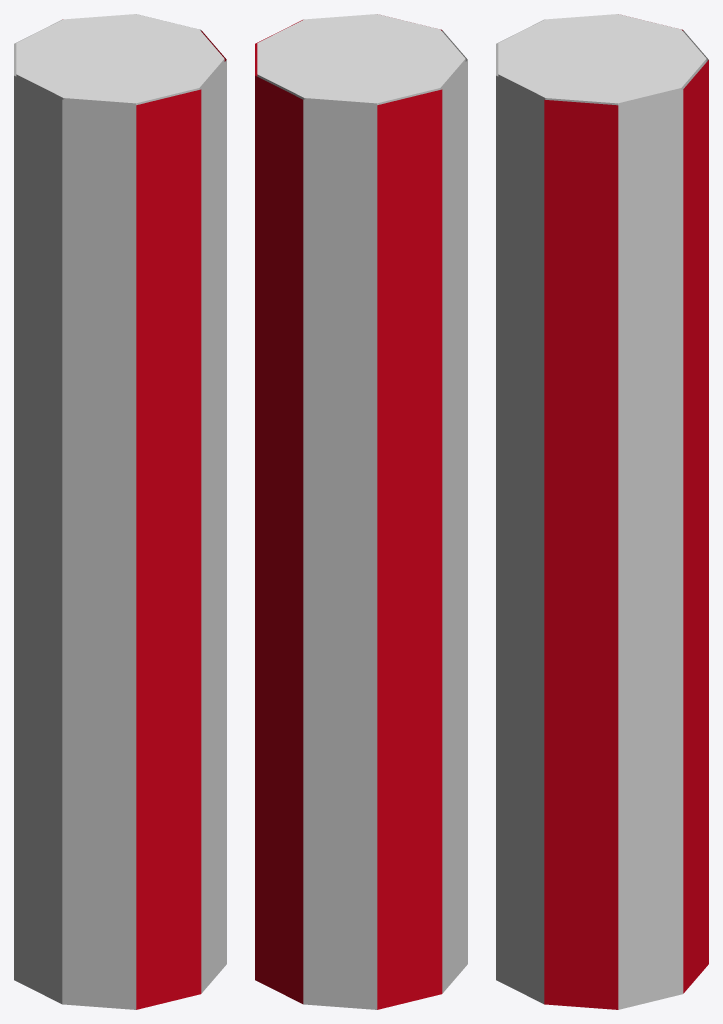
Rendered from paille-rempli.fbx.
3 renders of one model, left to right at view 1: azimuth 30°, elevation 25°; view 2: azimuth 150°, elevation 25°; view 3: azimuth 270°, elevation 25°, orthographic.
Visible parts, largest first — view 1: Cylinder.001, Cylinder; view 2: Cylinder.001, Cylinder; view 3: Cylinder.001, Cylinder.
Boxes of the visible parts, x1,y1,x2,y2 form: Cylinder.001: (14,19,226,1009); Cylinder: (16,14,224,105); Cylinder.001: (255,19,467,1009); Cylinder: (257,14,465,105); Cylinder.001: (496,19,708,1009); Cylinder: (498,14,706,105).
Size of the model in its own units: 109 by 502 by 107.
